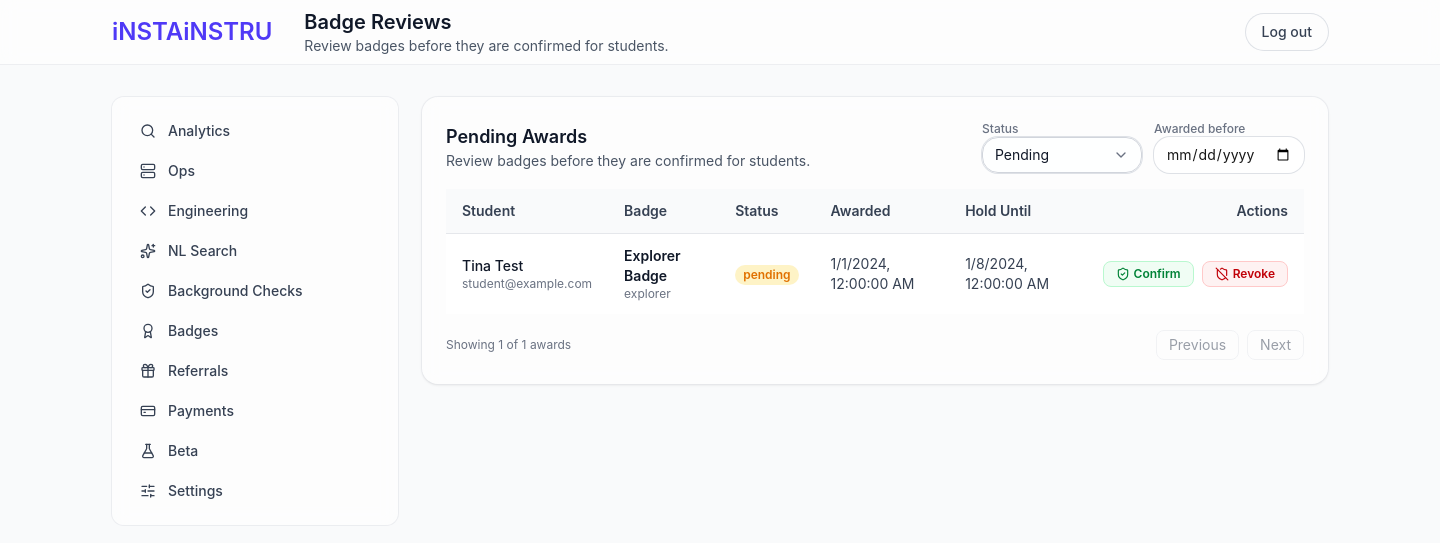
Test: AdminPendingBadgesPage › renders rows and confirms an award
Expected: the text "Explorer Badge" is shown, [624,247,681,284]
Click the button "Confirm". click: point(1148, 274)
box: [1103,261,1194,287]
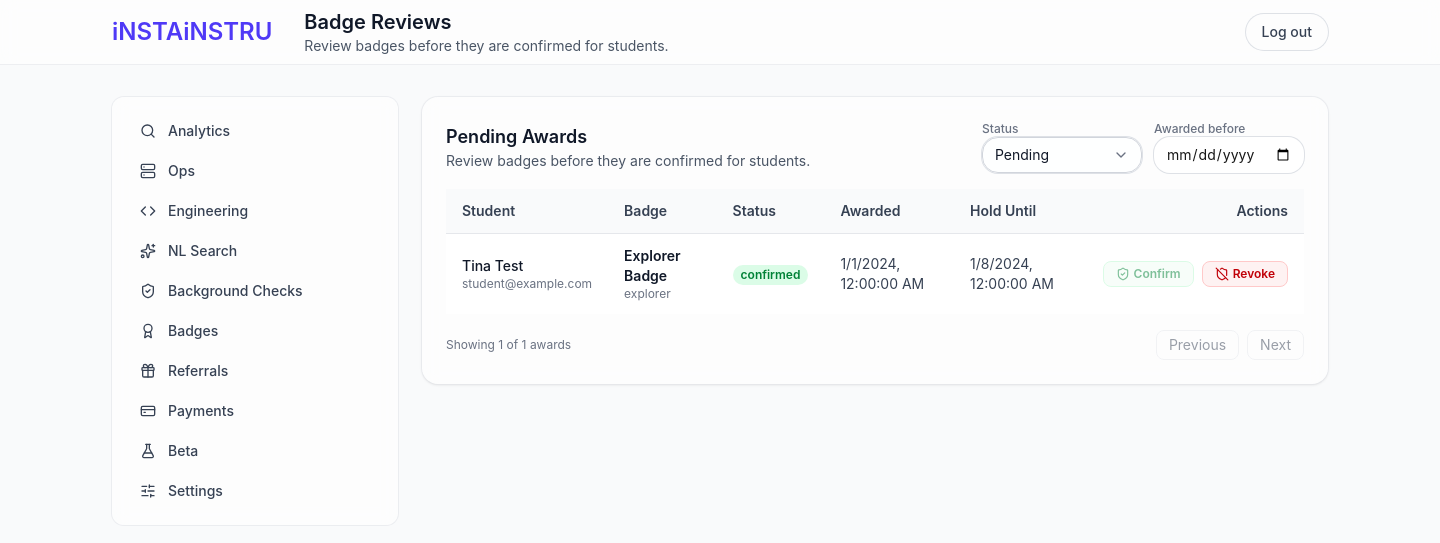
Expected: the text "Explorer Badge" shows "confirmed", [741,266,800,282]
